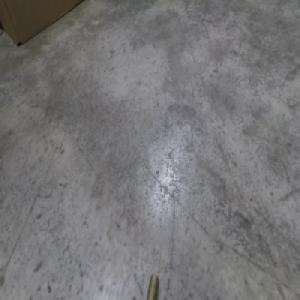Bolt: (145, 272, 158, 299)
